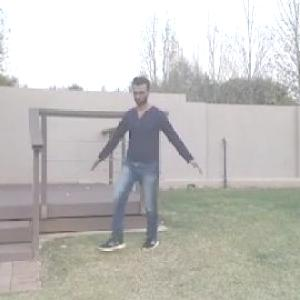land: (91, 79, 202, 270)
